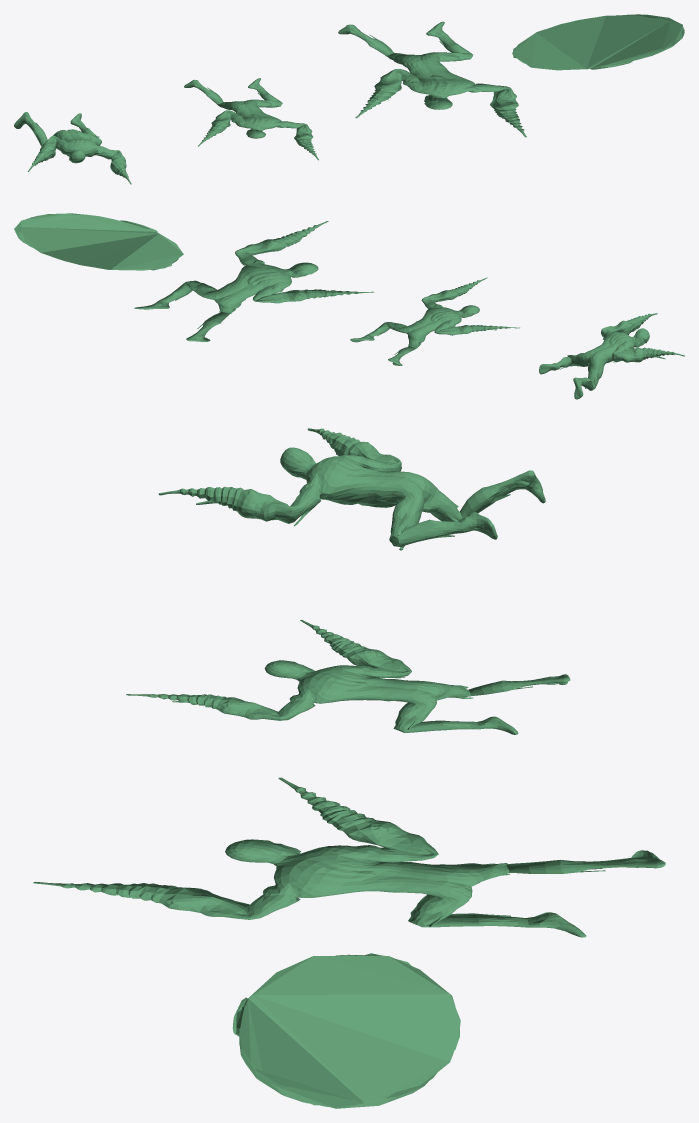
Rendered from tergo_death_melt_puddle_preview.glb.
3 views of the same model, one above another, from view 1: azimuth 30°, elevation 25°; view 2: azimuth 150°, elevation 25°; view 3: azimuth 270°, elevation 25° (orthographic). The views are drawn at different scales.
Visible parts, largest first — view 1: 03_melt_spread_puddle, 02_crush_collapse, 01_weight_sag, 00_final_death_lie_pose; view 2: 03_melt_spread_puddle, 02_crush_collapse, 00_final_death_lie_pose, 01_weight_sag; view 3: 03_melt_spread_puddle, 02_crush_collapse, 00_final_death_lie_pose, 01_weight_sag.
Part boxes in pixels (bbox=[...]): 03_melt_spread_puddle: bbox=[512, 14, 684, 70]; 02_crush_collapse: bbox=[338, 21, 526, 137]; 01_weight_sag: bbox=[184, 78, 318, 160]; 00_final_death_lie_pose: bbox=[14, 112, 131, 184]; 03_melt_spread_puddle: bbox=[14, 213, 183, 270]; 02_crush_collapse: bbox=[134, 221, 373, 341]; 00_final_death_lie_pose: bbox=[539, 313, 684, 399]; 01_weight_sag: bbox=[350, 277, 519, 365]; 03_melt_spread_puddle: bbox=[232, 953, 460, 1108]; 02_crush_collapse: bbox=[33, 777, 665, 937]; 00_final_death_lie_pose: bbox=[158, 428, 545, 550]; 01_weight_sag: bbox=[126, 620, 570, 734].
Size of the model in its own units: 8.62 by 0.4197 by 3.59.
